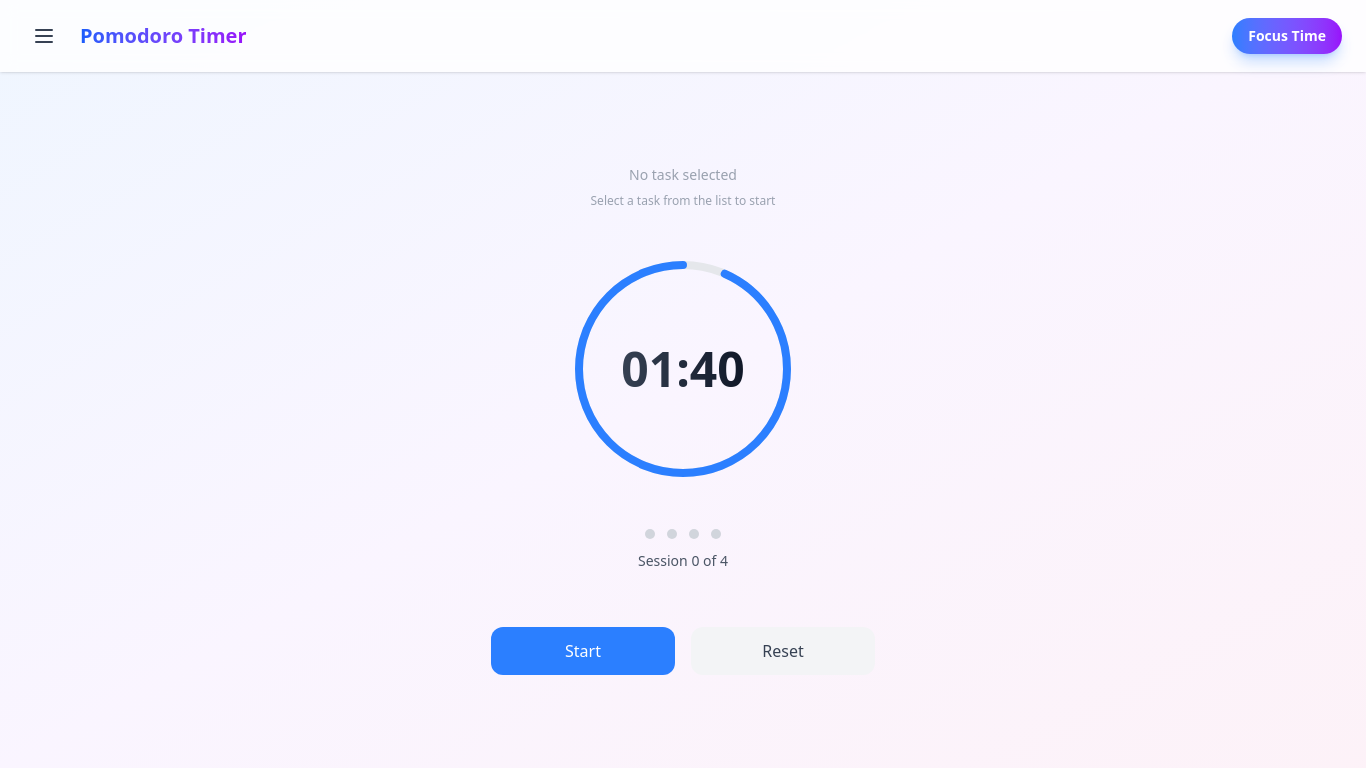
Test case: Timer Page Integration › Timer Functionality › should reset timer when reset button is clicked
Click the button "Reset". click: [783, 650]
box: [691,626,875,674]
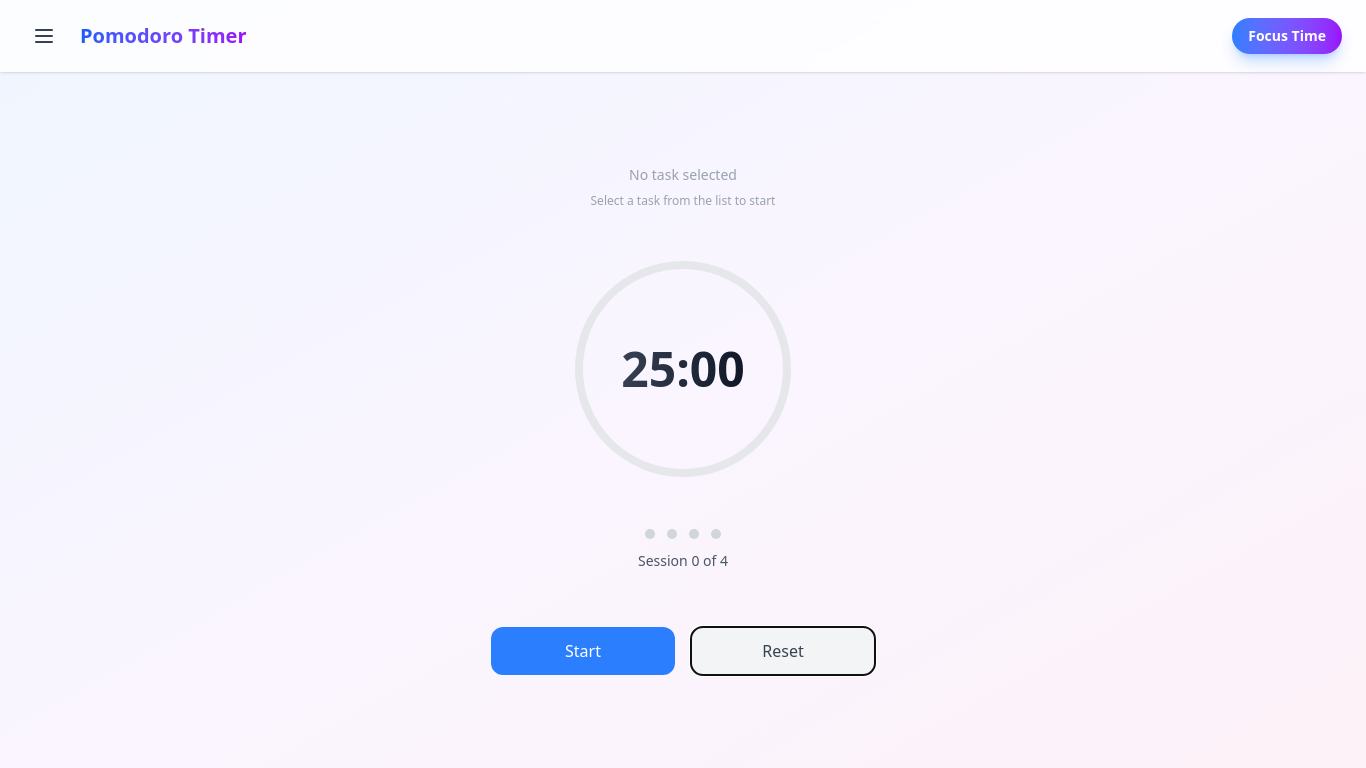
Now the text "25:00" is shown, box [621,344,745,392]
